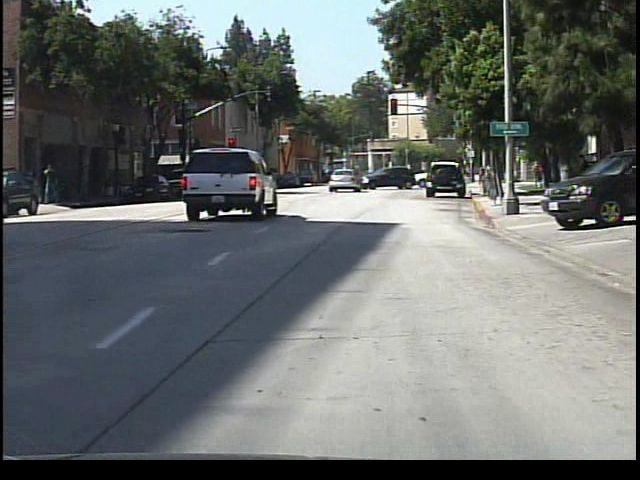person: (43, 158, 66, 206), (531, 158, 547, 190), (324, 161, 342, 188), (479, 155, 495, 182)
